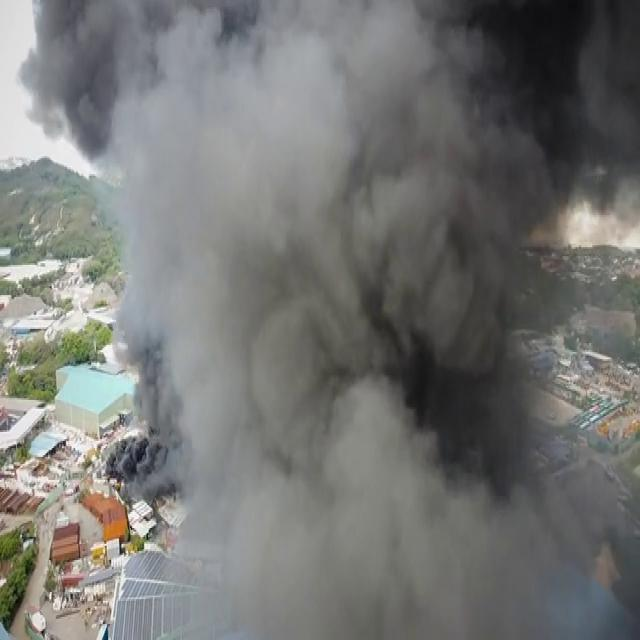smoke: (300, 228, 532, 492), (218, 511, 610, 638), (462, 5, 640, 249), (146, 5, 316, 209), (326, 5, 507, 194), (180, 372, 332, 558), (126, 239, 296, 380), (21, 3, 140, 164), (108, 433, 184, 502)
